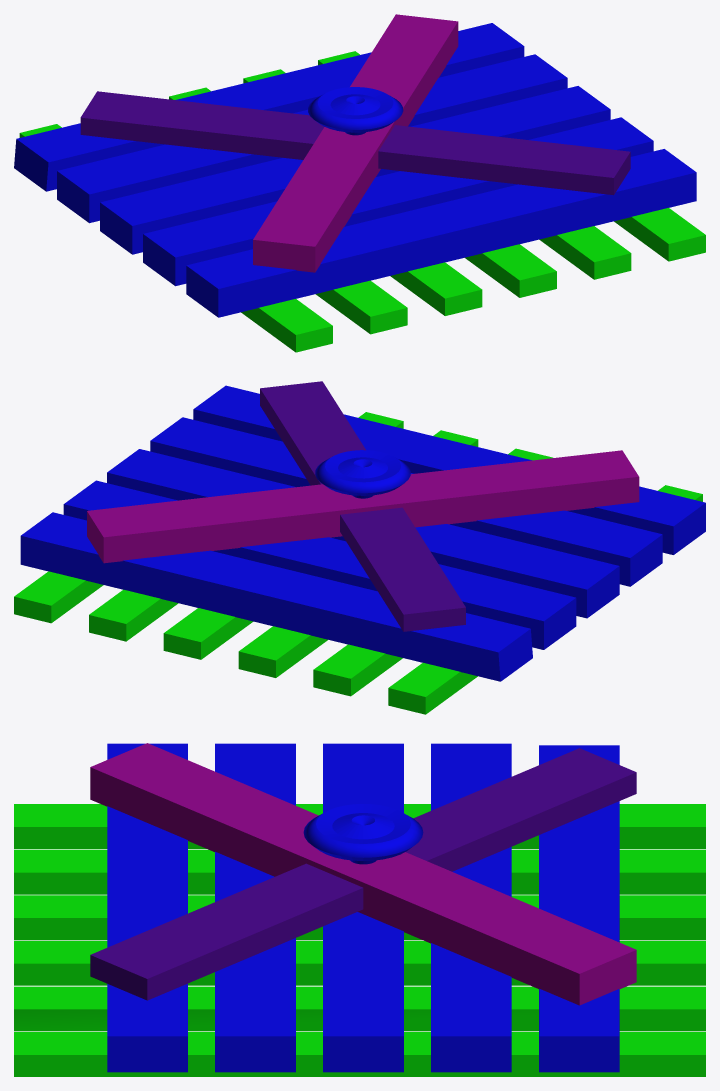
File: fortniteShaderTest.fbx
3 renders of one model, top to bottom at view 1: azimuth 30°, elevation 25°; view 2: azimuth 150°, elevation 25°; view 3: azimuth 270°, elevation 25°, orthographic. The views are drawn at different scales.
Visible parts, largest first — view 1: Plane; view 2: Plane; view 3: Plane.
Part boxes in pixels (<box>): Plane: <box>14,14,705,352</box>; Plane: <box>14,381,705,714</box>; Plane: <box>14,743,705,1076</box>.
Size of the model in its own units: 641 by 130 by 641.
